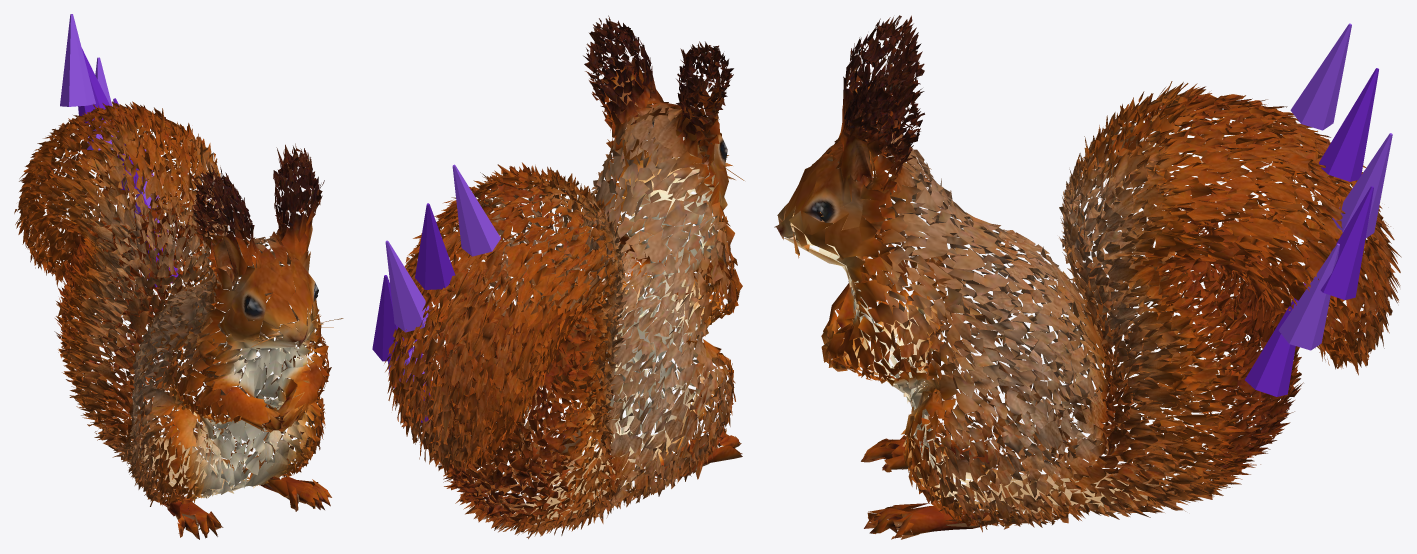
Rendered from crystal-squirrel.glb.
3 renders of one model, left to right at view 1: azimuth 30°, elevation 25°; view 2: azimuth 150°, elevation 25°; view 3: azimuth 270°, elevation 25°, orthographic. The views are drawn at different scales.
Visible parts, largest first — view 1: squirrel, Crystal tail spike 6, Crystal tail spike 5, Crystal tail spike 4; view 2: squirrel, Crystal tail spike 6, Crystal tail spike 4, Crystal tail spike 5, Crystal tail spike 3; view 3: squirrel, Crystal tail spike 5, Crystal tail spike 6, Crystal tail spike 2, Crystal tail spike 3, Crystal tail spike 1, Crystal tail spike 4.
Part boxes in pixels (x1,y1,x2,y2): squirrel: (14, 101, 343, 539); Crystal tail spike 6: (60, 14, 95, 106); Crystal tail spike 5: (78, 48, 109, 123); Crystal tail spike 4: (87, 57, 118, 150); squirrel: (384, 15, 744, 538); Crystal tail spike 6: (452, 164, 500, 256); Crystal tail spike 4: (385, 240, 430, 332); Crystal tail spike 5: (415, 203, 455, 289); Crystal tail spike 3: (372, 275, 413, 361); squirrel: (774, 15, 1401, 539); Crystal tail spike 5: (1319, 68, 1378, 181); Crystal tail spike 6: (1290, 23, 1351, 130); Crystal tail spike 2: (1278, 243, 1339, 350); Crystal tail spike 3: (1320, 186, 1373, 299); Crystal tail spike 1: (1245, 283, 1305, 396); Crystal tail spike 4: (1332, 133, 1392, 238).
Size of the model in its own units: 0.1518 by 0.3071 by 0.3706.
Materials: 3 (1 with a texture image).
